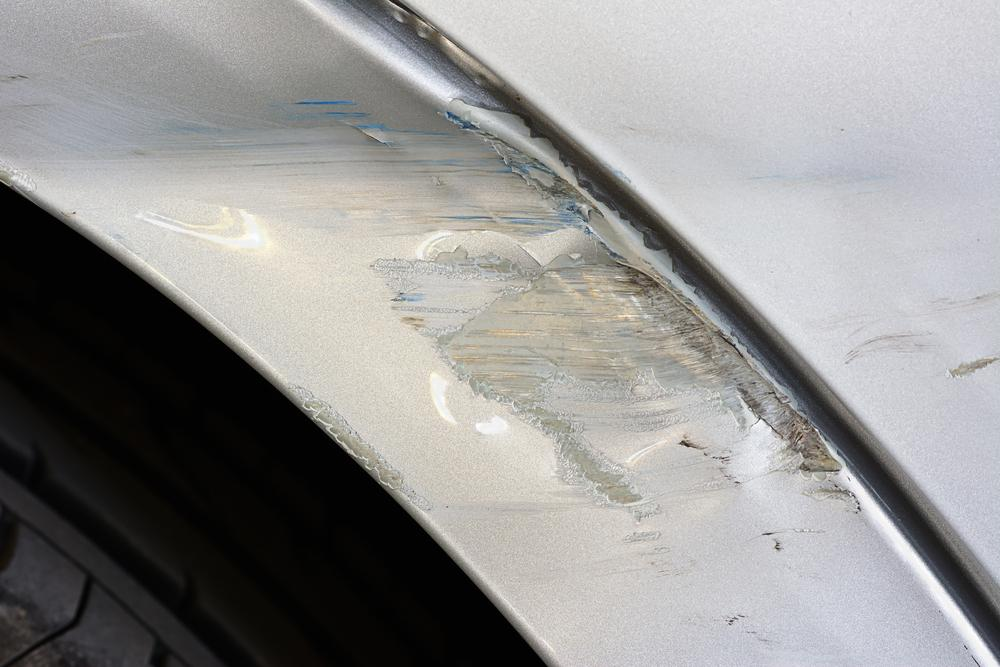scratch: (0, 62, 872, 656), (817, 270, 1000, 397)
